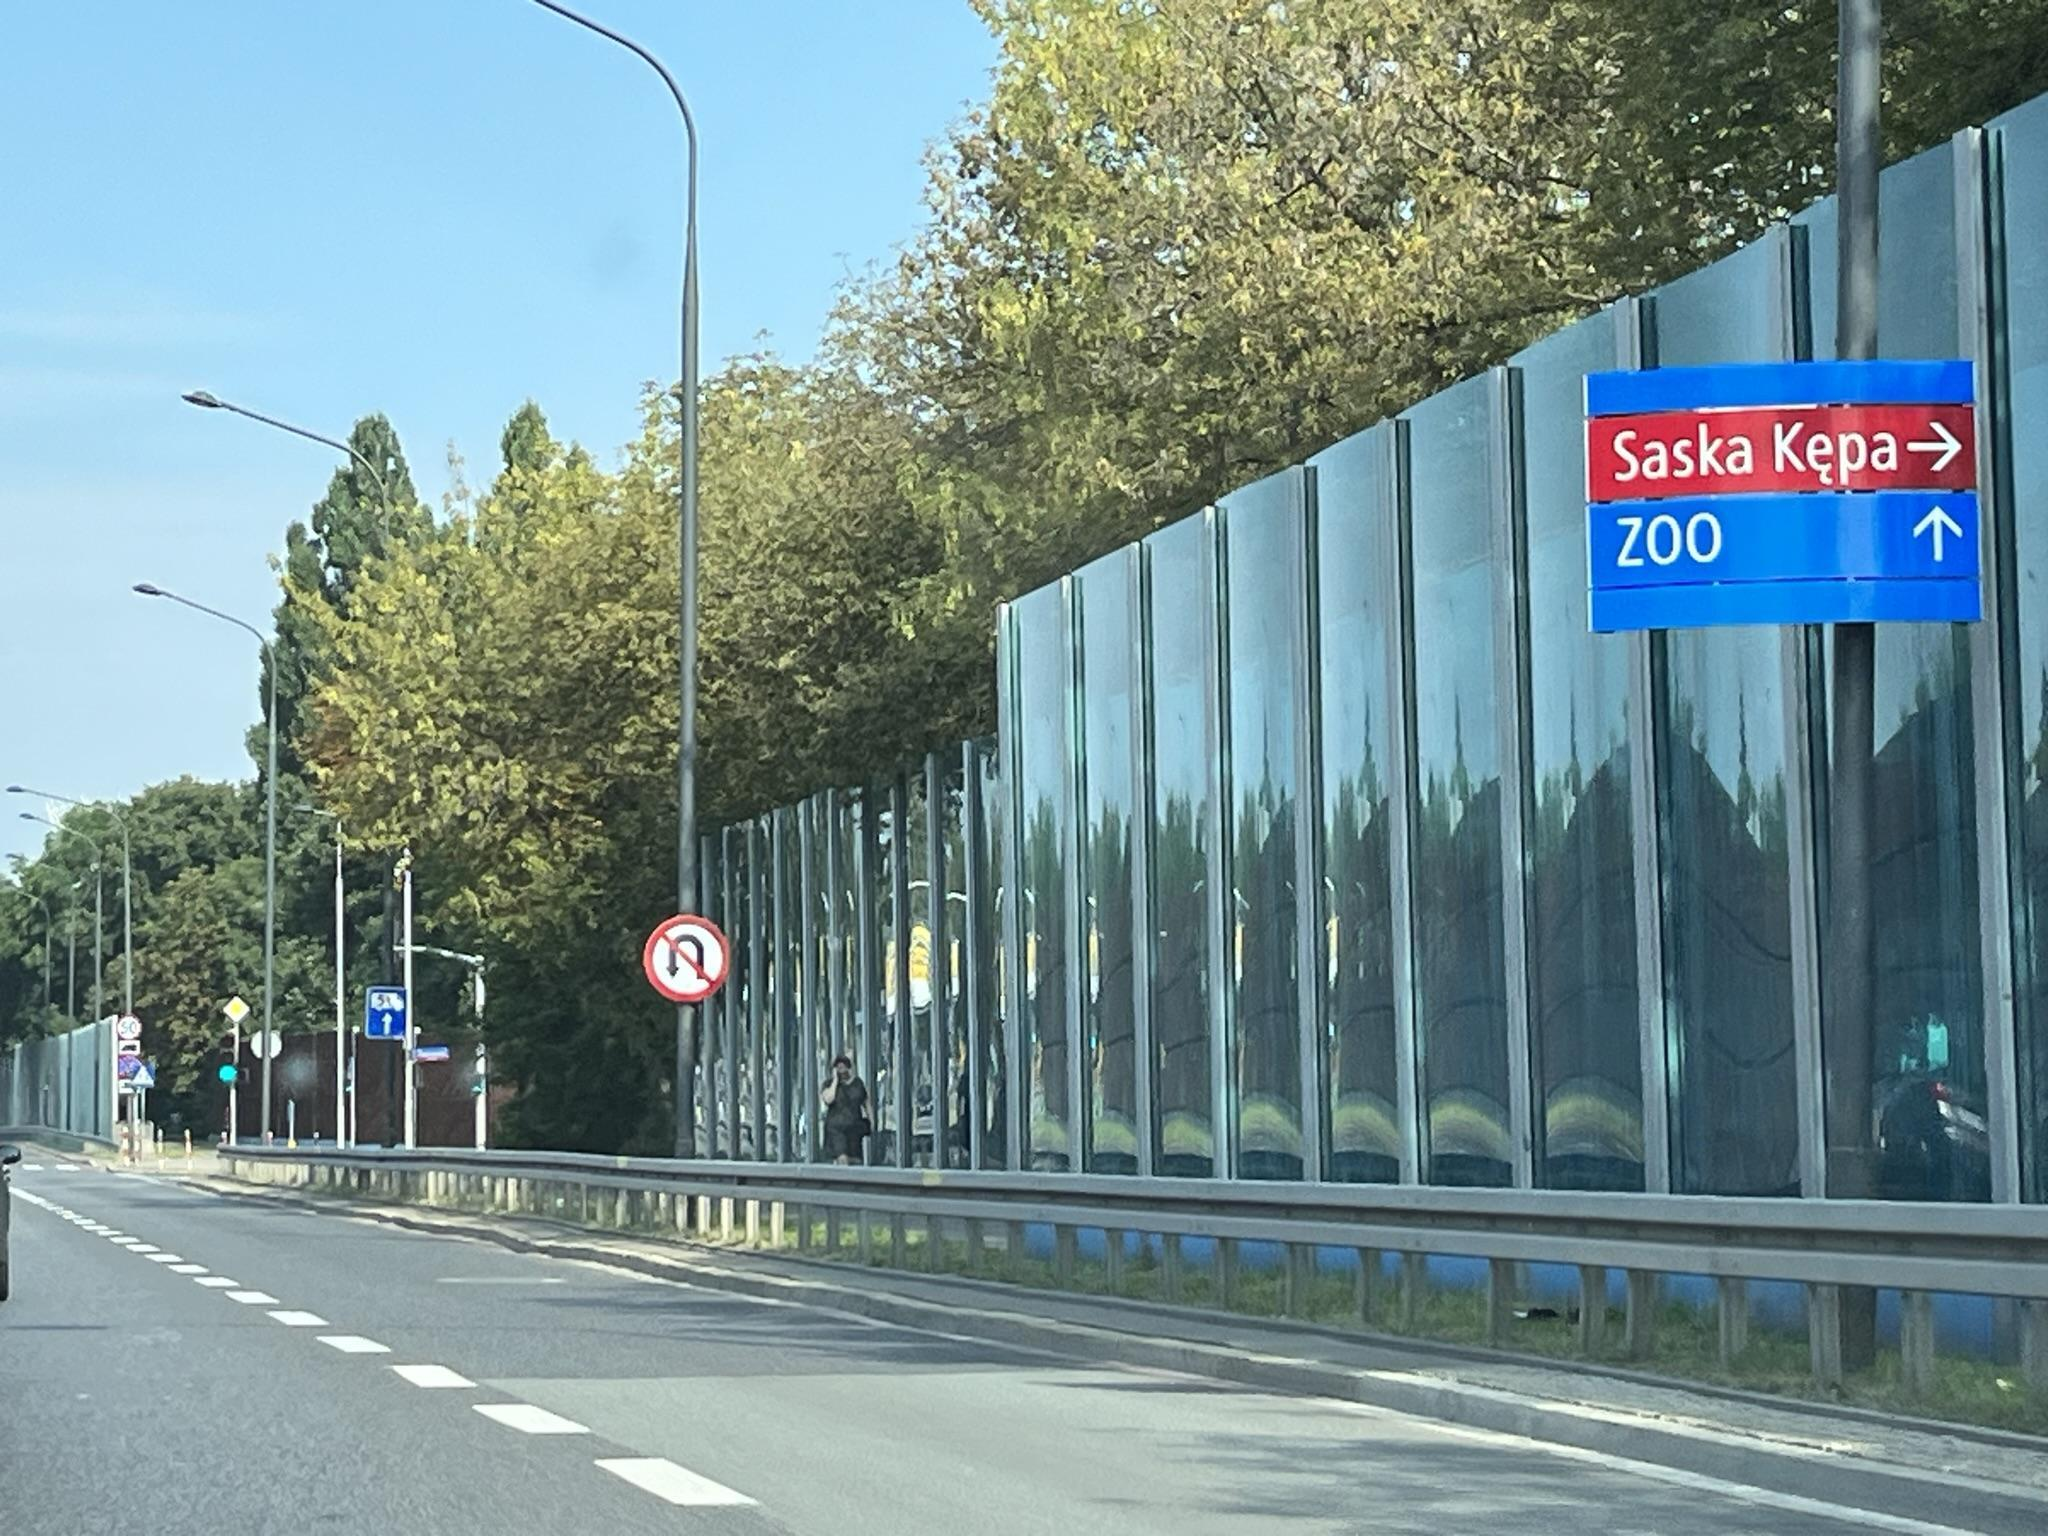information: (366, 986, 408, 1039), (223, 995, 250, 1021), (131, 1065, 153, 1087)
other: (118, 1079, 142, 1094), (119, 1041, 140, 1055)
prohibitory: (643, 913, 732, 1007), (116, 1015, 144, 1039), (118, 1055, 142, 1078)
